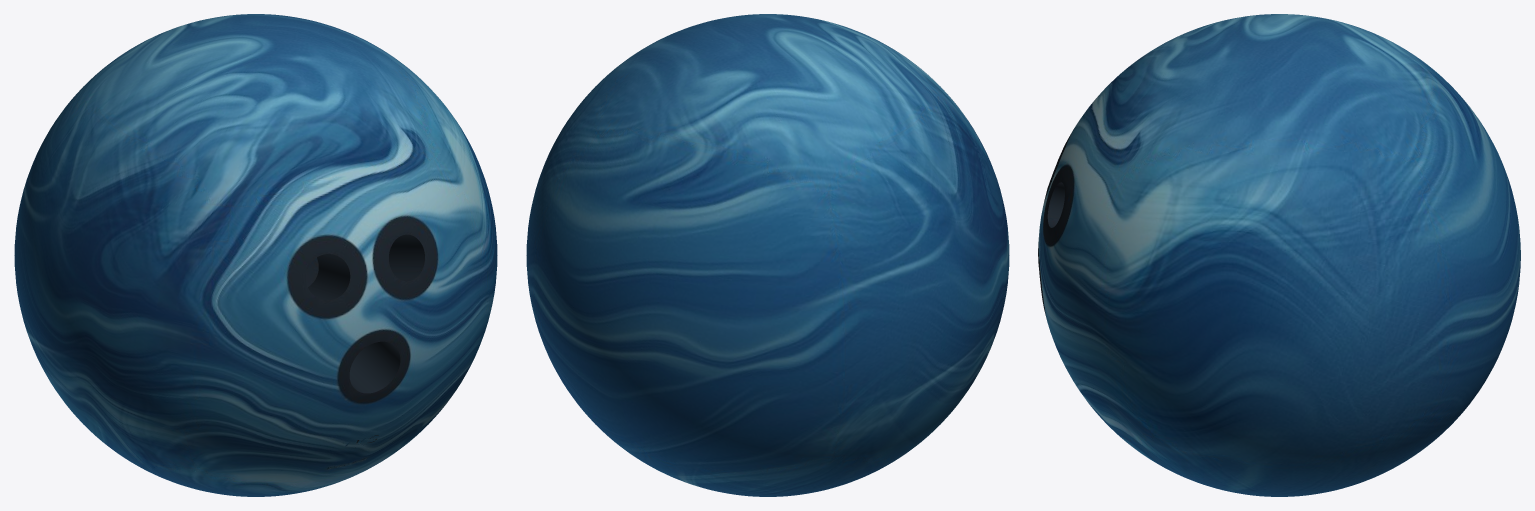
File: bowling-ball.glb
3 renders of one model, left to right at view 1: azimuth 30°, elevation 25°; view 2: azimuth 150°, elevation 25°; view 3: azimuth 270°, elevation 25°, orthographic.
Visible parts, largest first — view 1: bowling-ball; view 2: bowling-ball; view 3: bowling-ball.
Part boxes in pixels (x1=…): bowling-ball: x1=14, y1=14, x2=497, y2=496; bowling-ball: x1=526, y1=14, x2=1009, y2=496; bowling-ball: x1=1038, y1=14, x2=1520, y2=496.
Size of the model in its own units: 0.56 by 0.56 by 0.56.
1 material, 1 textured.
